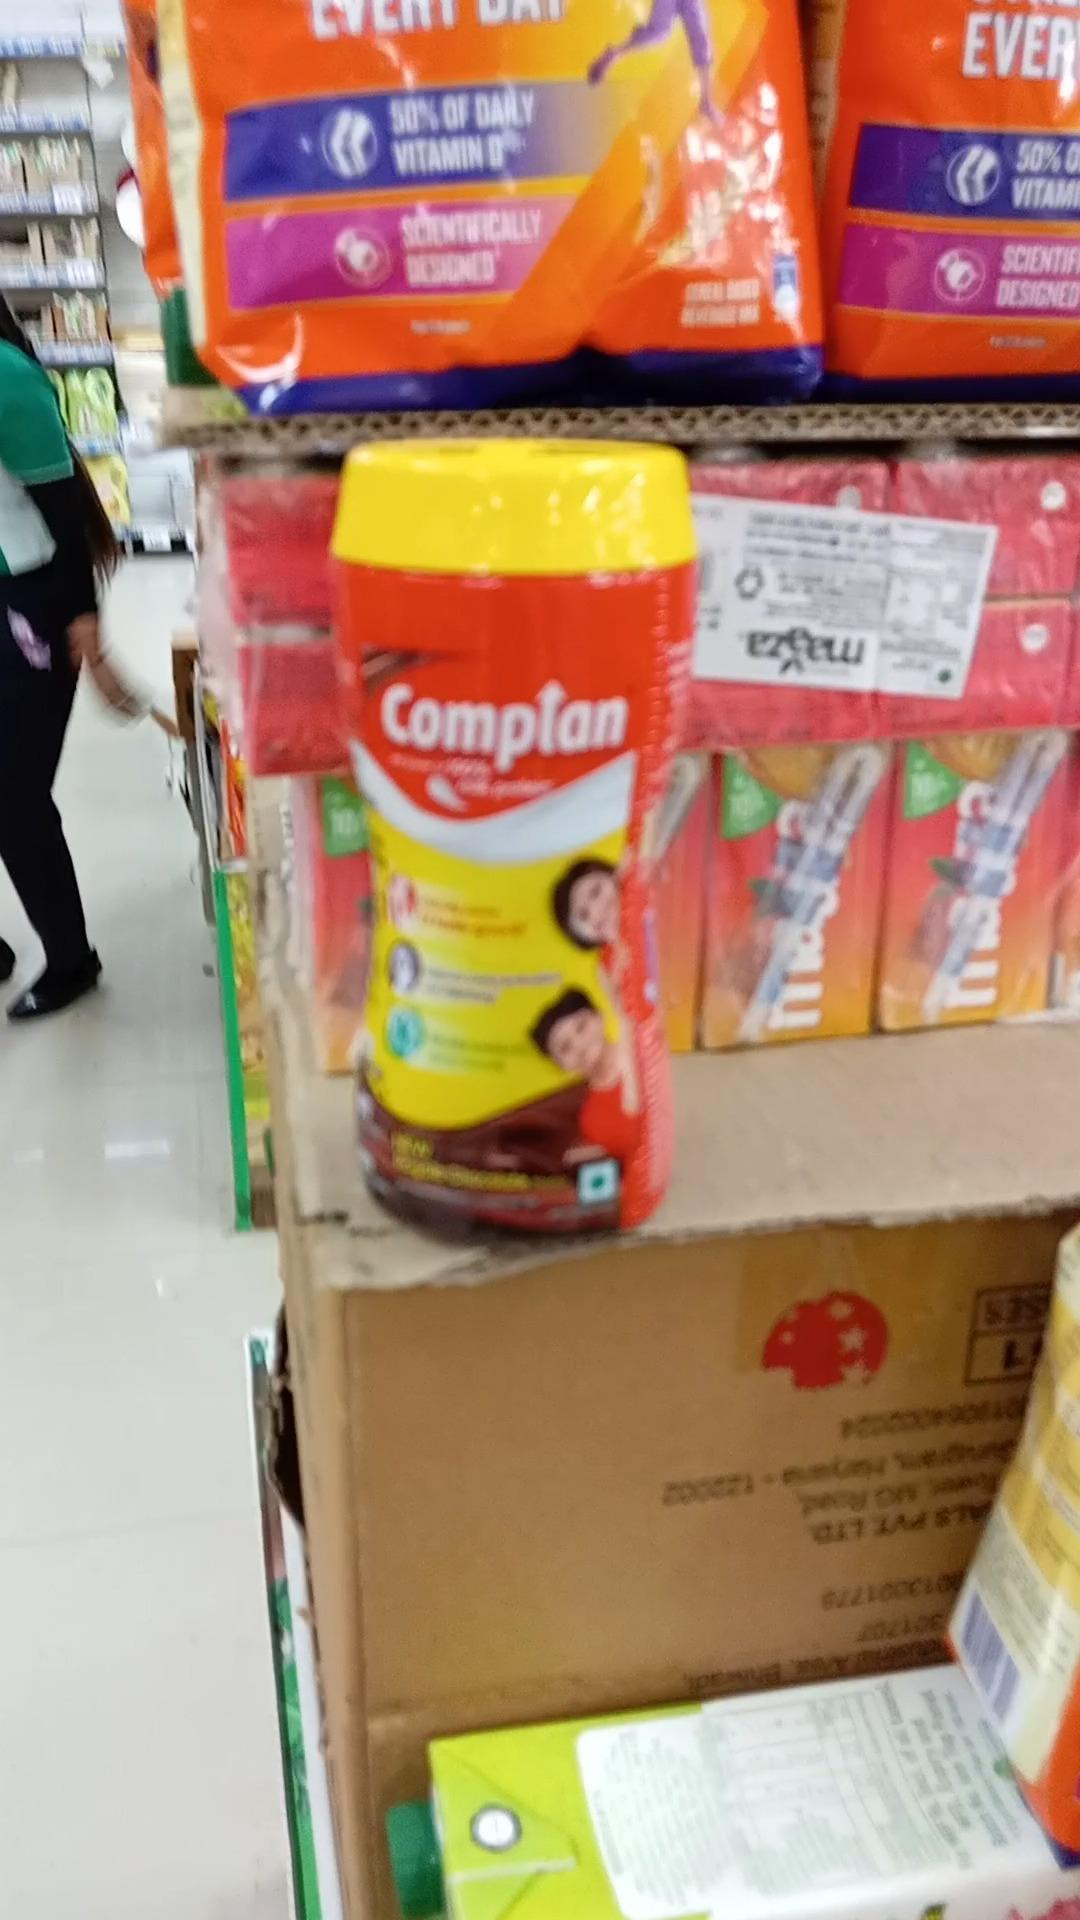COMPLAN_CHOCOLATE_200_GMS_JAR: (336, 444, 655, 1244)
